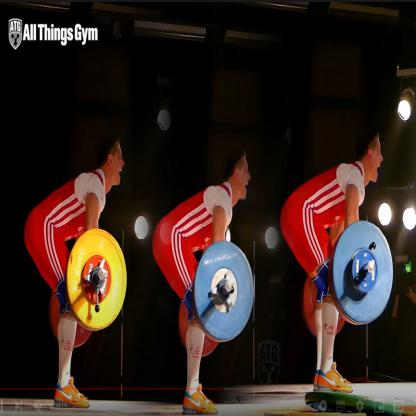Barbell: (328, 214, 398, 330), (189, 237, 257, 344), (64, 225, 129, 336)
